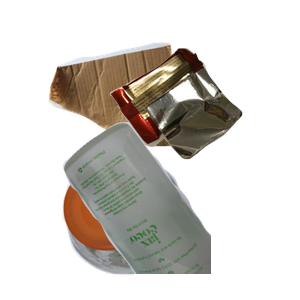cardboard: (46, 40, 226, 179)
glass: (60, 120, 300, 300)
plastic: (60, 152, 237, 300)
trash: (107, 46, 300, 198)
